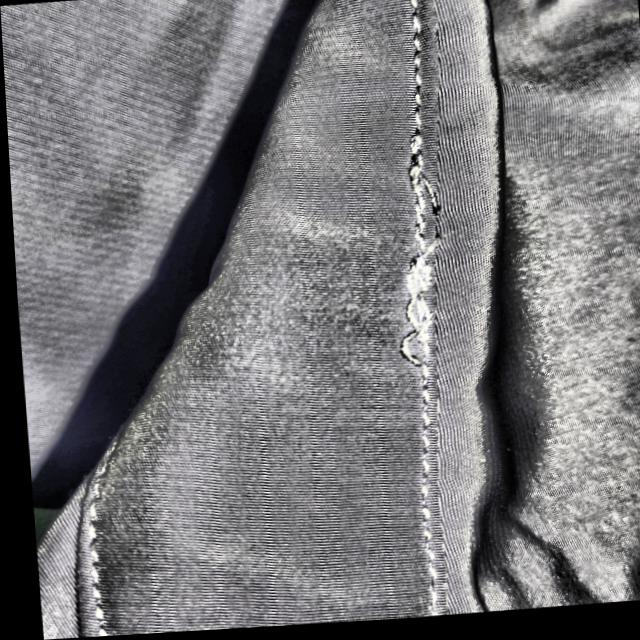Stitch: (374, 142, 480, 424)
